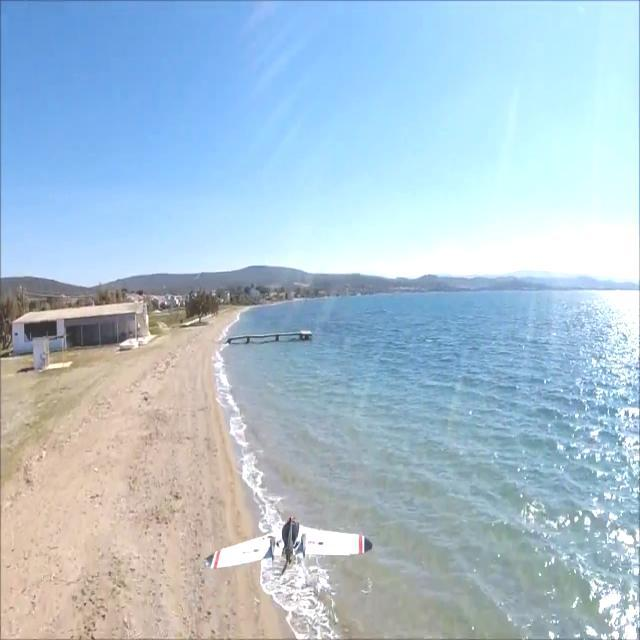iha: (203, 534, 373, 564)
